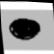correct: (5, 14, 44, 45)
